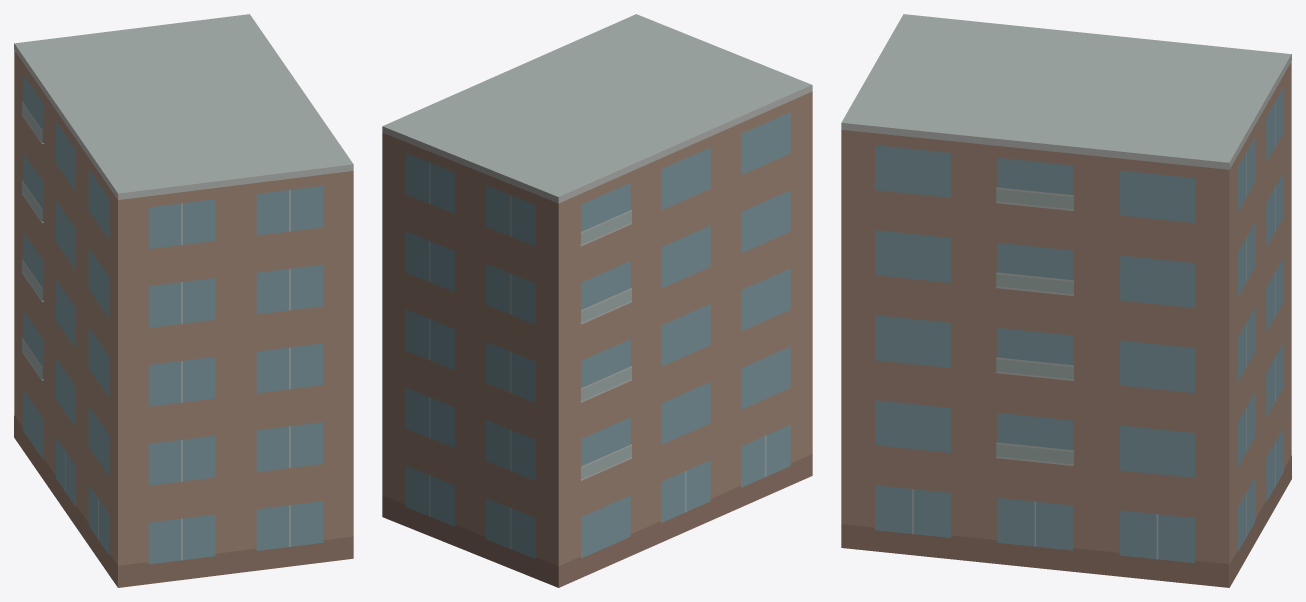
File: survey-upis-32869354.glb
The picture shows the model from 3 angles, left to right: view 1: azimuth 30°, elevation 25°; view 2: azimuth 150°, elevation 25°; view 3: azimuth 270°, elevation 25°; orthographic projection. The views are drawn at different scales.
Visible parts, largest first — view 1: survey-upis-32869354.tmp; view 2: survey-upis-32869354.tmp; view 3: survey-upis-32869354.tmp.
Part boxes in pixels (x1,y1,x2,y2): survey-upis-32869354.tmp: (14, 14, 353, 587); survey-upis-32869354.tmp: (382, 14, 812, 587); survey-upis-32869354.tmp: (841, 14, 1291, 587).
Size of the model in its own units: 11.2 by 14.9 by 14.32.
